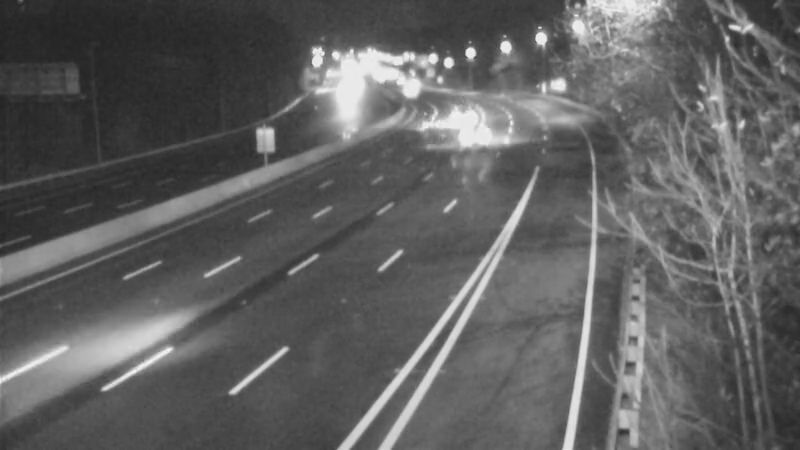vehicle: (385, 65, 435, 115), (436, 88, 486, 138), (396, 94, 446, 144), (452, 115, 502, 165)
